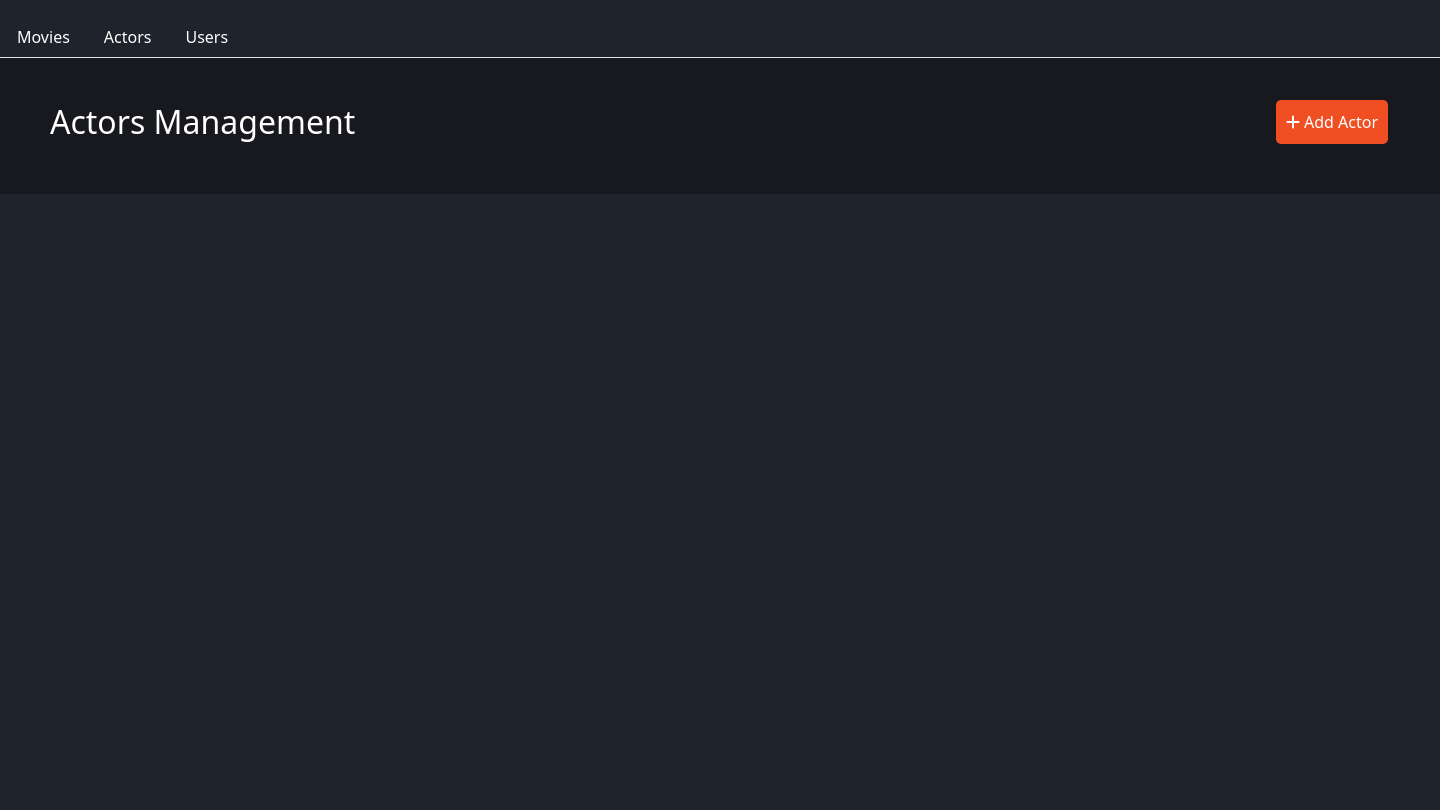
Test: <ActorList /> › Add actor modal › should render 'Add Actor' modal if 'Add Actor' is clicked
This screenshot has width=1440, height=810.
Click the button "Add Actor".
click(1332, 122)  # box [1276,100,1388,144]
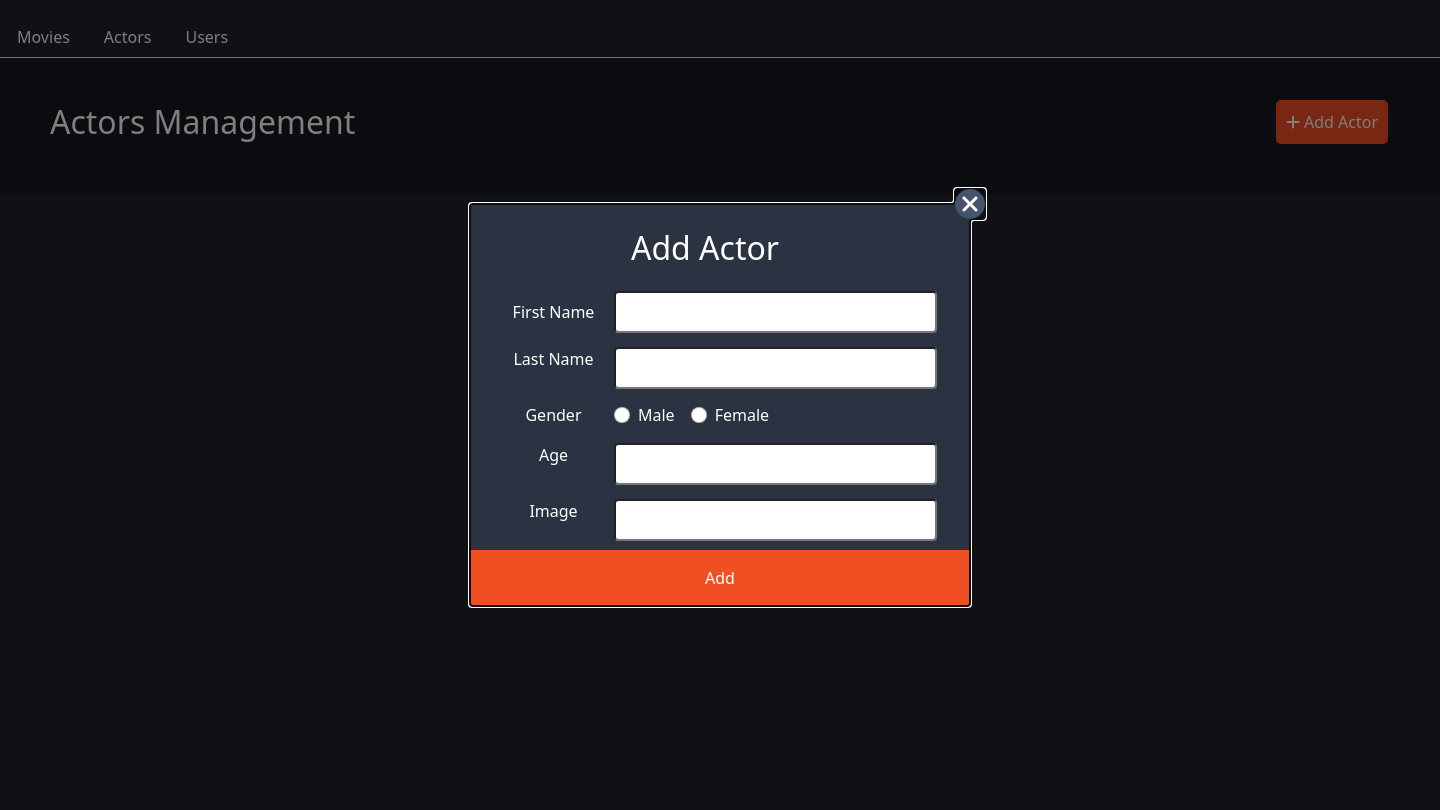
Check: the dialog is shown, box [470,204,970,606]
